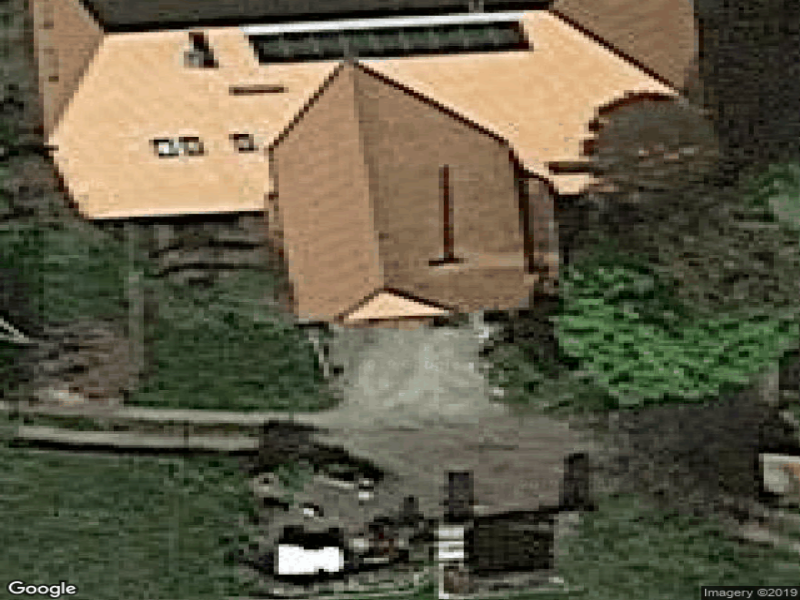pv: (248, 22, 533, 66)
